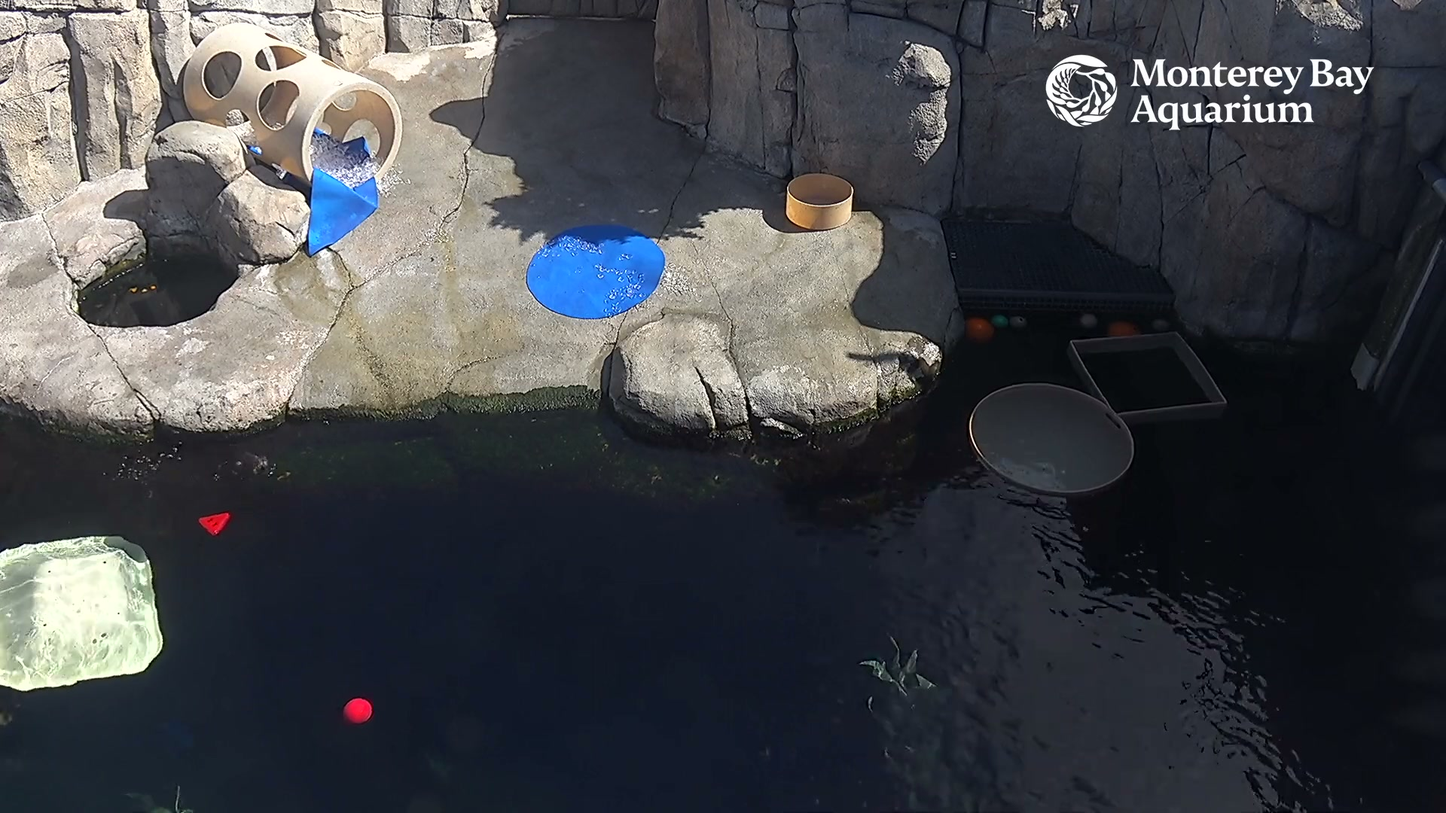Southern Sea Otter: (216, 443, 285, 489)
